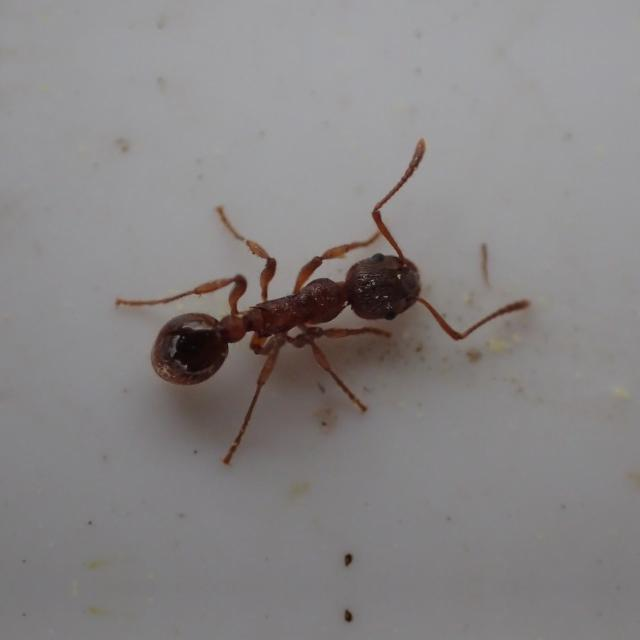Myrmica: (132, 157, 460, 425)
